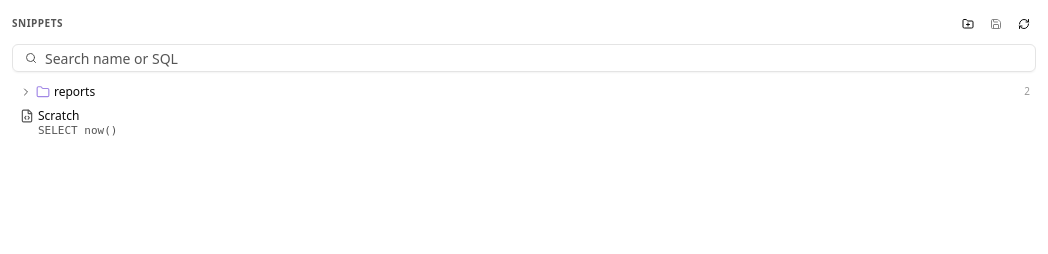
Test: SnippetsPanel › nests snippets under collapsible folders, top-level ones outside
Expected: the text "All users" is not shown
Expected: the text "Scratch" is shown, [38,107,79,124]
Click the text "reports" at (75, 92), box [54,83,95,100]
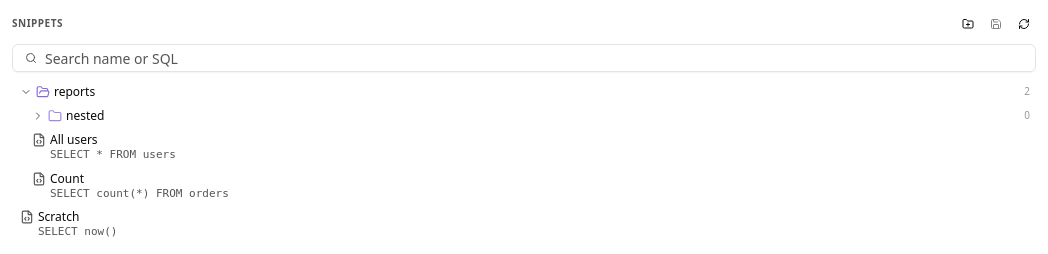
Result: the text "All users" is shown at [50,131,98,148]
Result: the text "Count" is shown at [50,170,84,187]
Result: the text "nested" is shown at [66,107,104,124]
